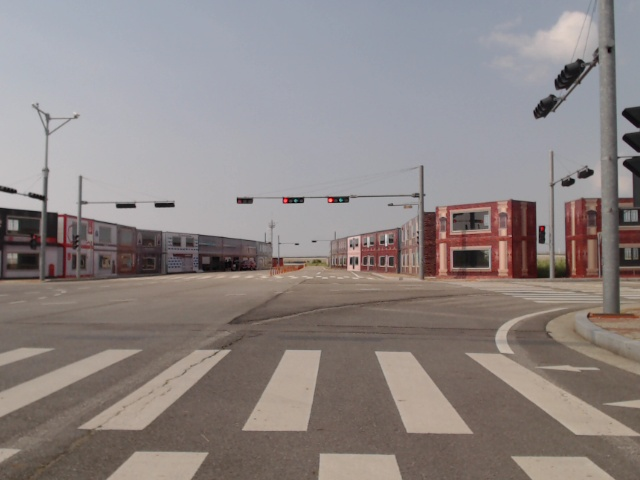left_green_4: (283, 198, 304, 204), (328, 197, 349, 203)
